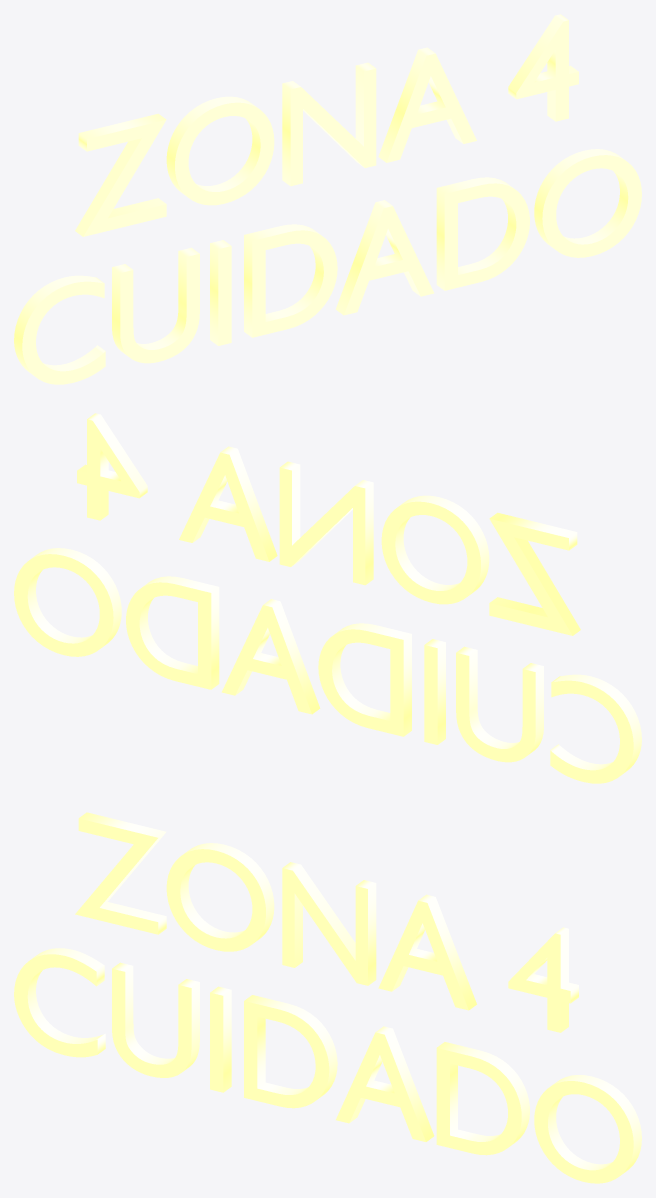
File: crt_z4_tx_lev5.glb
3 renders of one model, top to bottom at view 1: azimuth 30°, elevation 25°; view 2: azimuth 150°, elevation 25°; view 3: azimuth 330°, elevation 25°, orthographic.
Parts seen in each view (by area): view 1: crt_z4_tx_lev5; view 2: crt_z4_tx_lev5; view 3: crt_z4_tx_lev5.
Boxes of the visible parts, bbox=[...] form: crt_z4_tx_lev5: bbox=[14, 14, 641, 384]; crt_z4_tx_lev5: bbox=[14, 413, 641, 783]; crt_z4_tx_lev5: bbox=[14, 812, 641, 1183].
Size of the model in its own units: 1.73 by 0.646 by 0.04.
